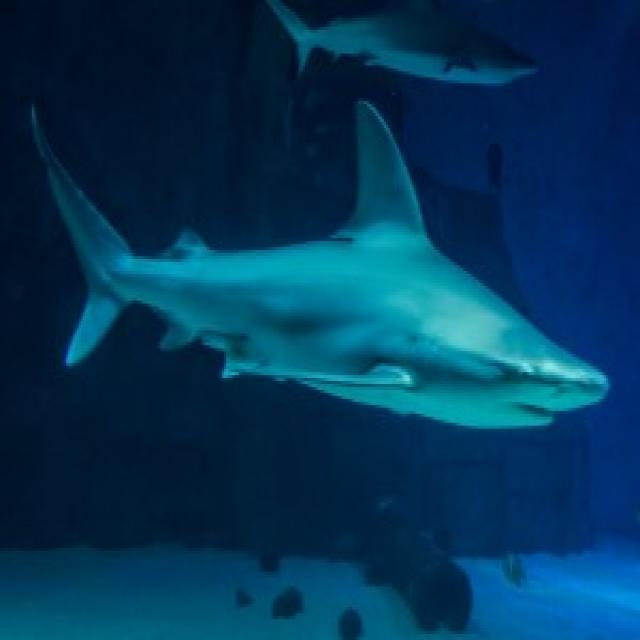Shark: (24, 98, 619, 432), (247, 0, 543, 92)
